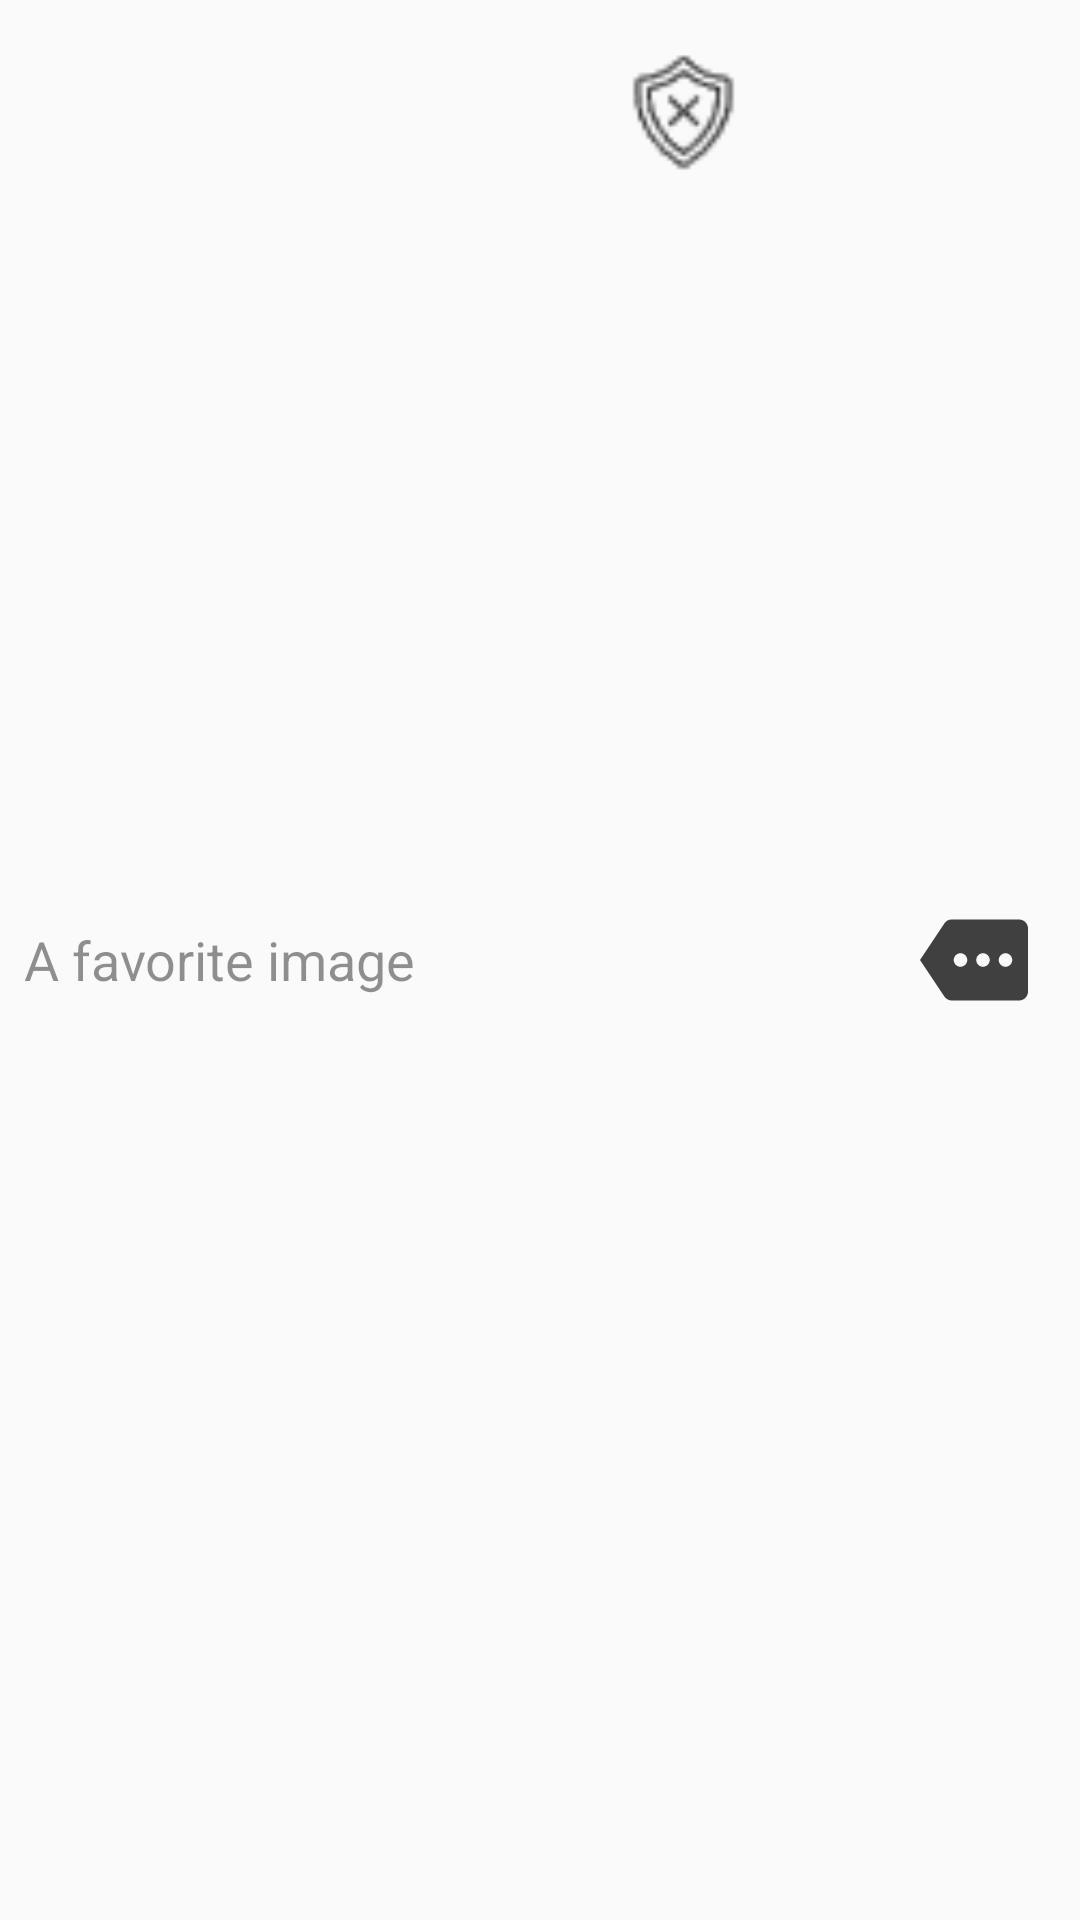

Where icons sit on this 1080px×1920px app screen, as (x1, y1, x2, y2):
more: (920, 919, 1028, 1001)
